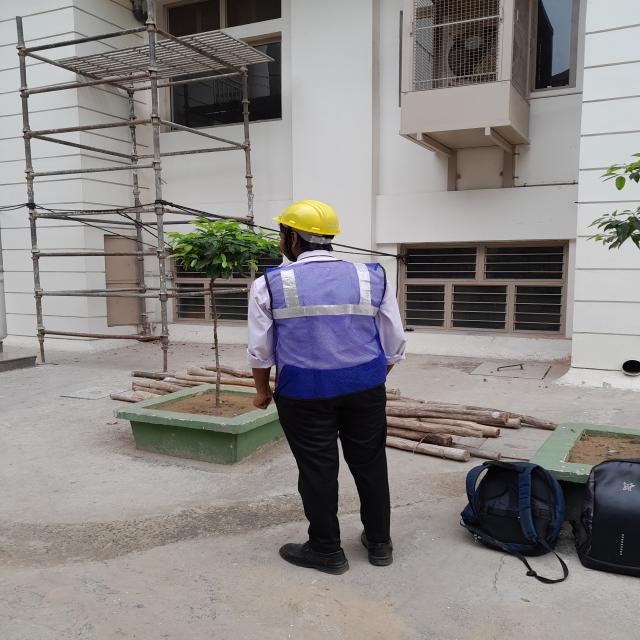safe: (249, 199, 395, 566)
